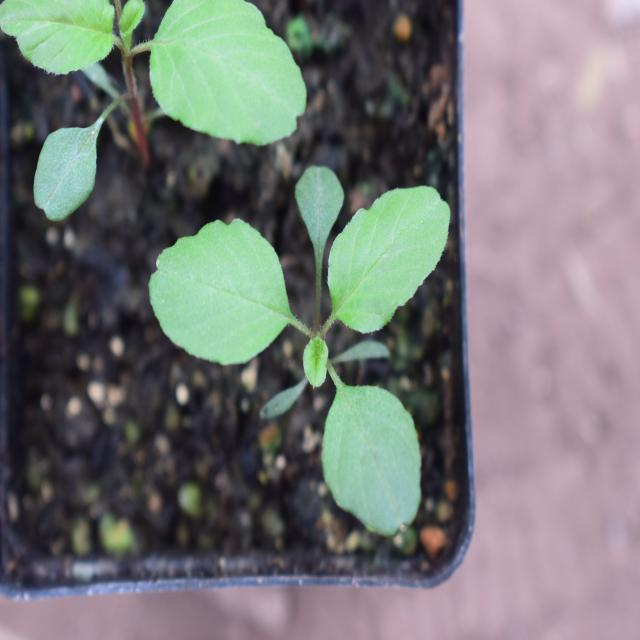pigweed: (130, 160, 462, 520)
